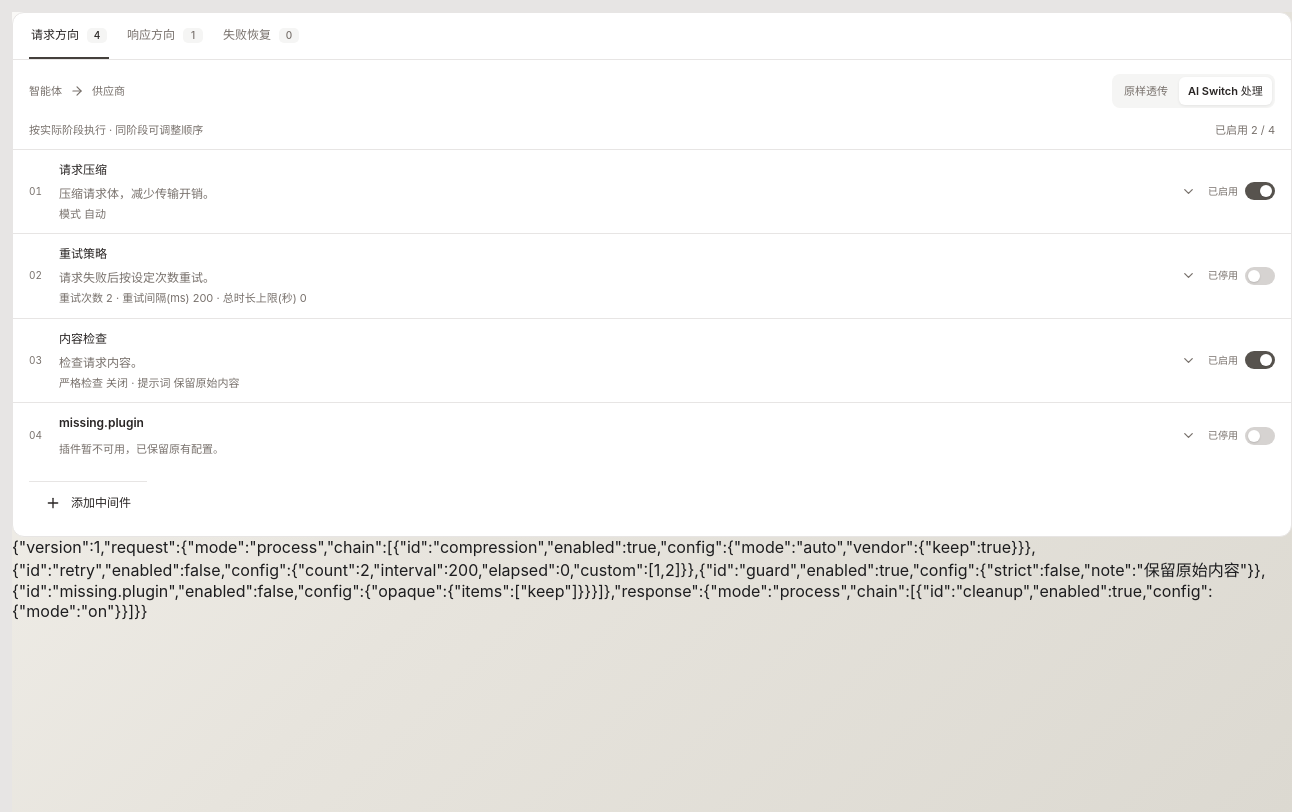
it: PipelineFlowEditor compact settings › moves the expanded plugin with its details and preserves all configs
Click the button with aria-label "配置 请求压缩" at x=83, y=169, box [13, 150, 1208, 233]
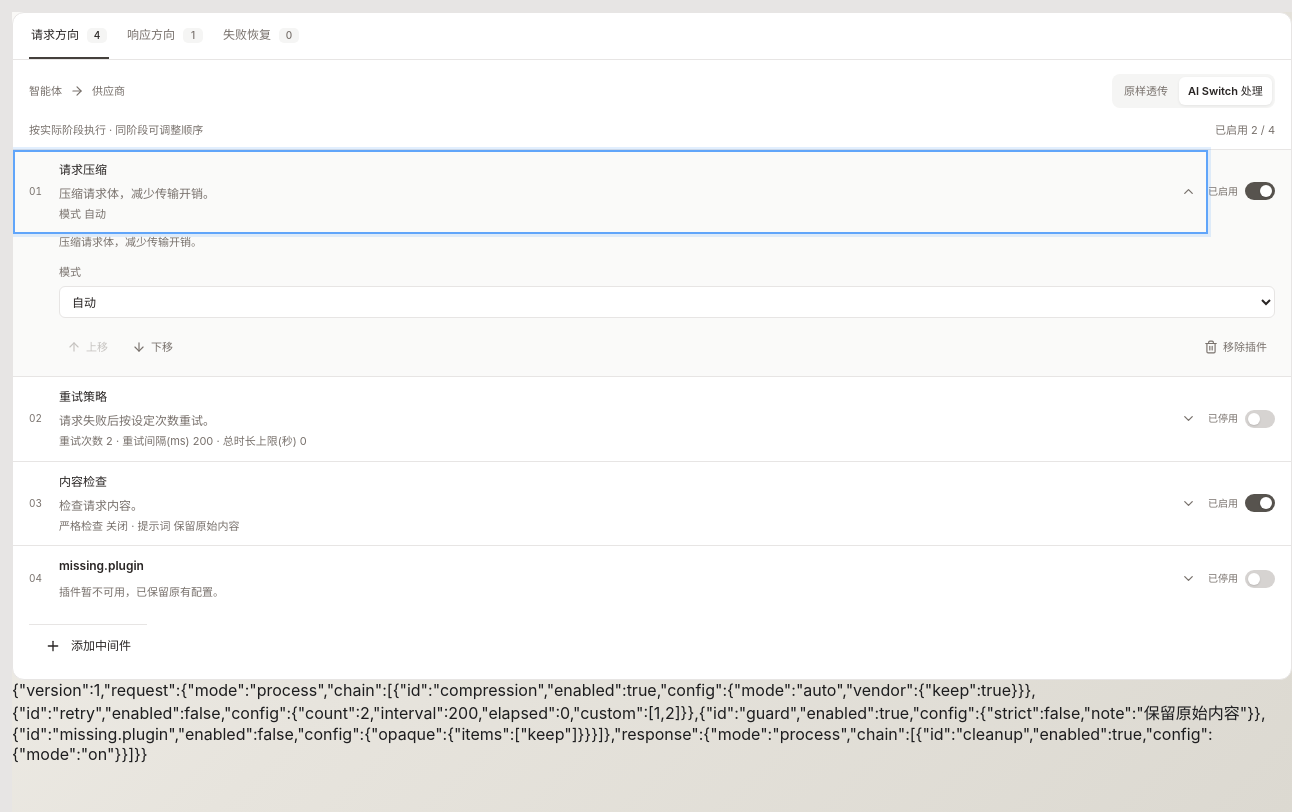
Check: the button with aria-label "上移 请求压缩" is disabled, box [59, 332, 116, 362]
Click the button with aria-label "下移 请求压缩" at x=152, y=347, box [124, 332, 181, 362]
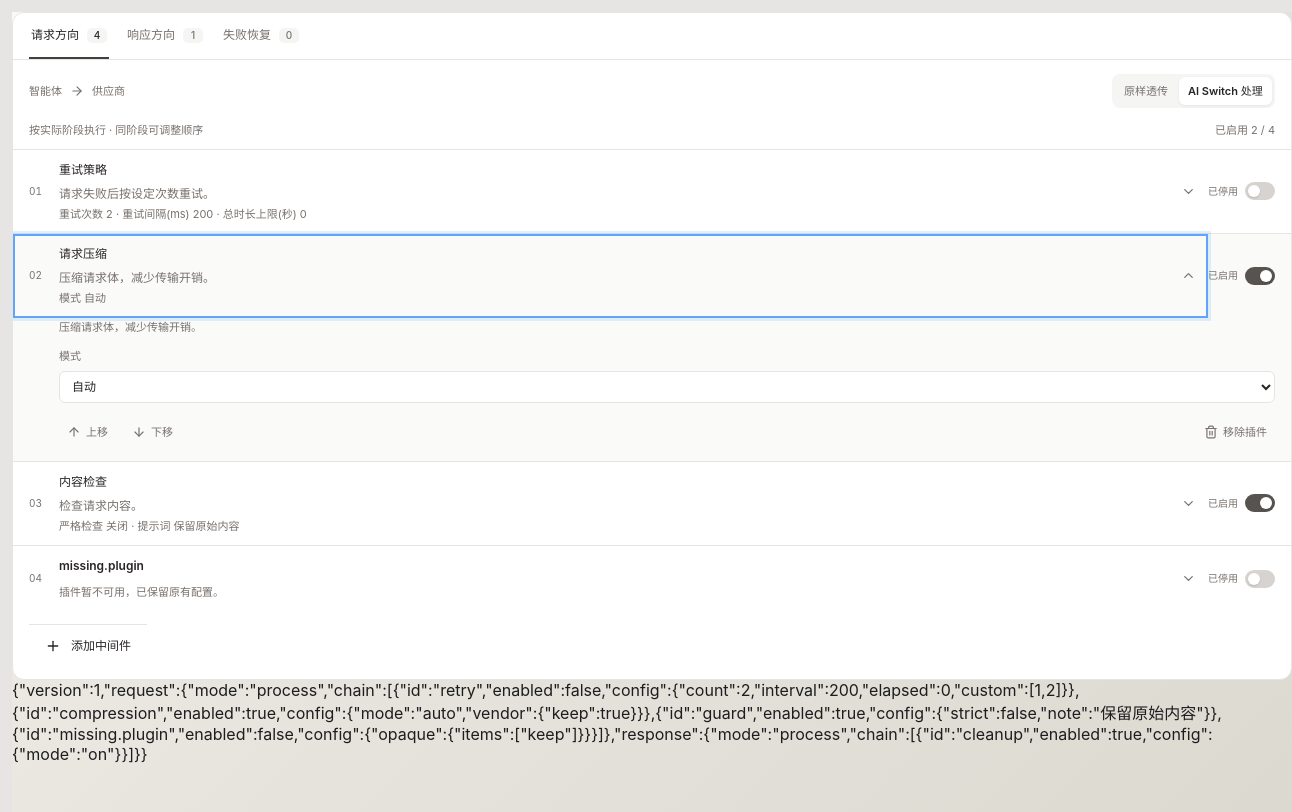
Check: the dropdown named "请求压缩 模式" shows "自动", box [59, 371, 1275, 403]
Check: the list item "02 请求压缩 压缩请求体，减少传输开销。 模式 自动 已启用 压缩请求体，减少传输开销。 模式 上移 下移 移除插件" is shown, box [13, 233, 1291, 461]
